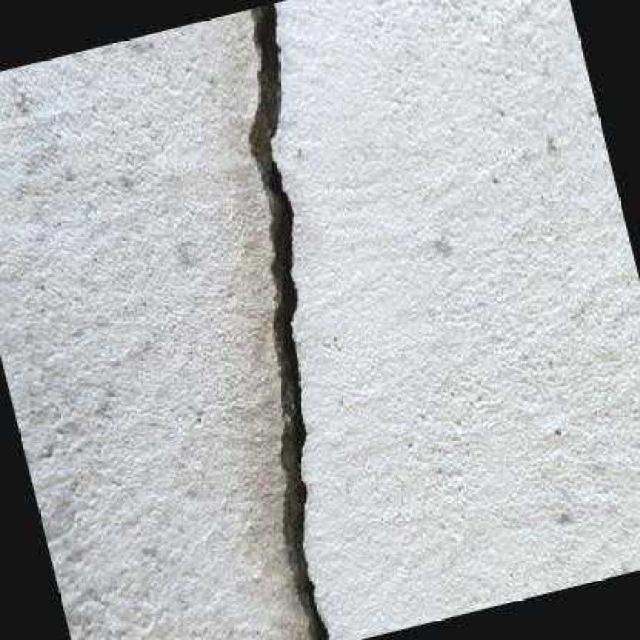D00: (245, 2, 329, 640)
